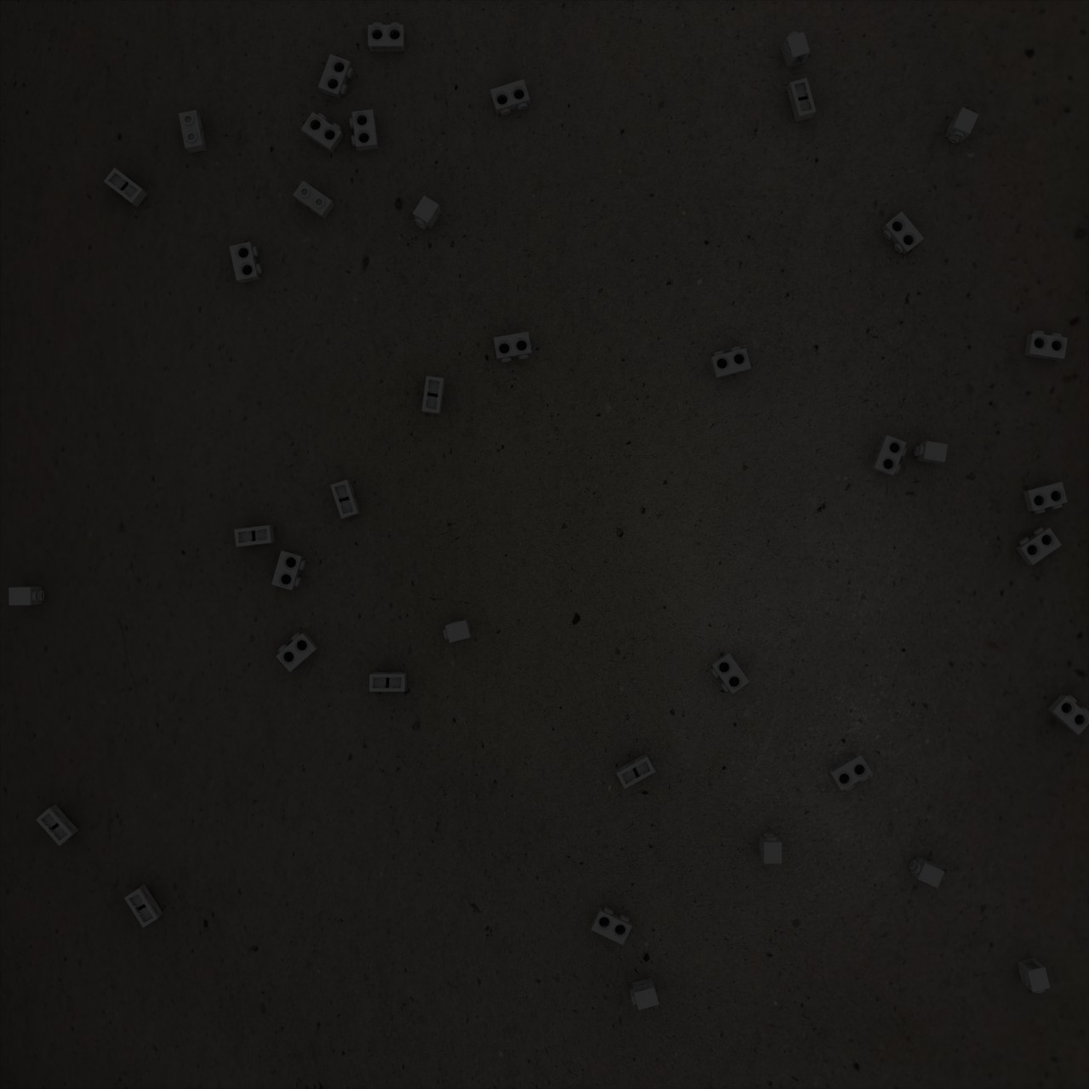lego: (882, 211, 924, 255), (36, 804, 79, 846), (301, 112, 344, 154), (104, 167, 148, 208), (1015, 527, 1062, 565), (1047, 694, 1089, 735), (276, 632, 319, 672), (124, 884, 163, 928), (710, 652, 750, 694), (293, 180, 335, 220), (828, 753, 872, 791), (318, 54, 353, 99), (591, 907, 632, 945), (871, 435, 907, 476), (490, 79, 530, 115), (1023, 482, 1068, 514), (615, 754, 656, 789), (229, 242, 262, 284), (271, 551, 306, 590), (1024, 330, 1068, 361), (710, 346, 751, 379), (787, 77, 816, 122), (944, 107, 979, 143), (349, 109, 379, 151), (493, 332, 532, 363), (179, 110, 207, 153), (330, 480, 360, 519), (1017, 958, 1050, 993), (909, 856, 945, 888), (368, 22, 405, 52), (781, 31, 810, 68), (413, 195, 441, 230), (630, 977, 659, 1010), (234, 525, 275, 547), (422, 376, 445, 415), (914, 441, 948, 464), (369, 672, 407, 692), (443, 618, 472, 643), (759, 833, 782, 864), (9, 586, 45, 605)
